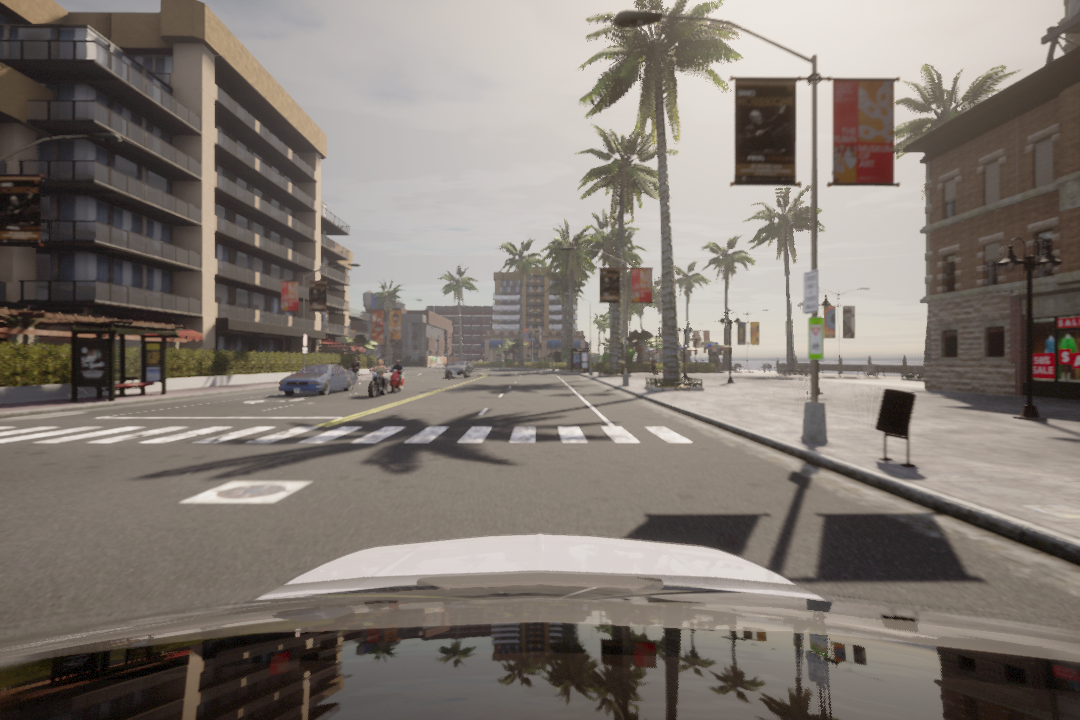walkside: (2, 424, 708, 457)
